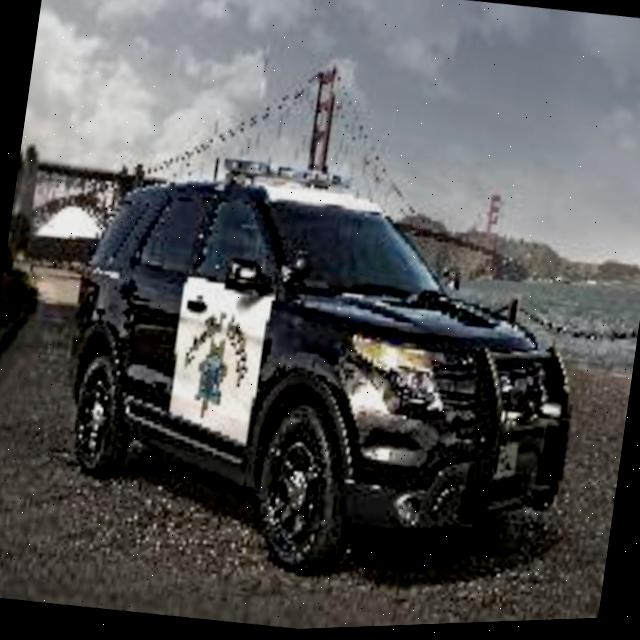emergency: (36, 138, 586, 612)
